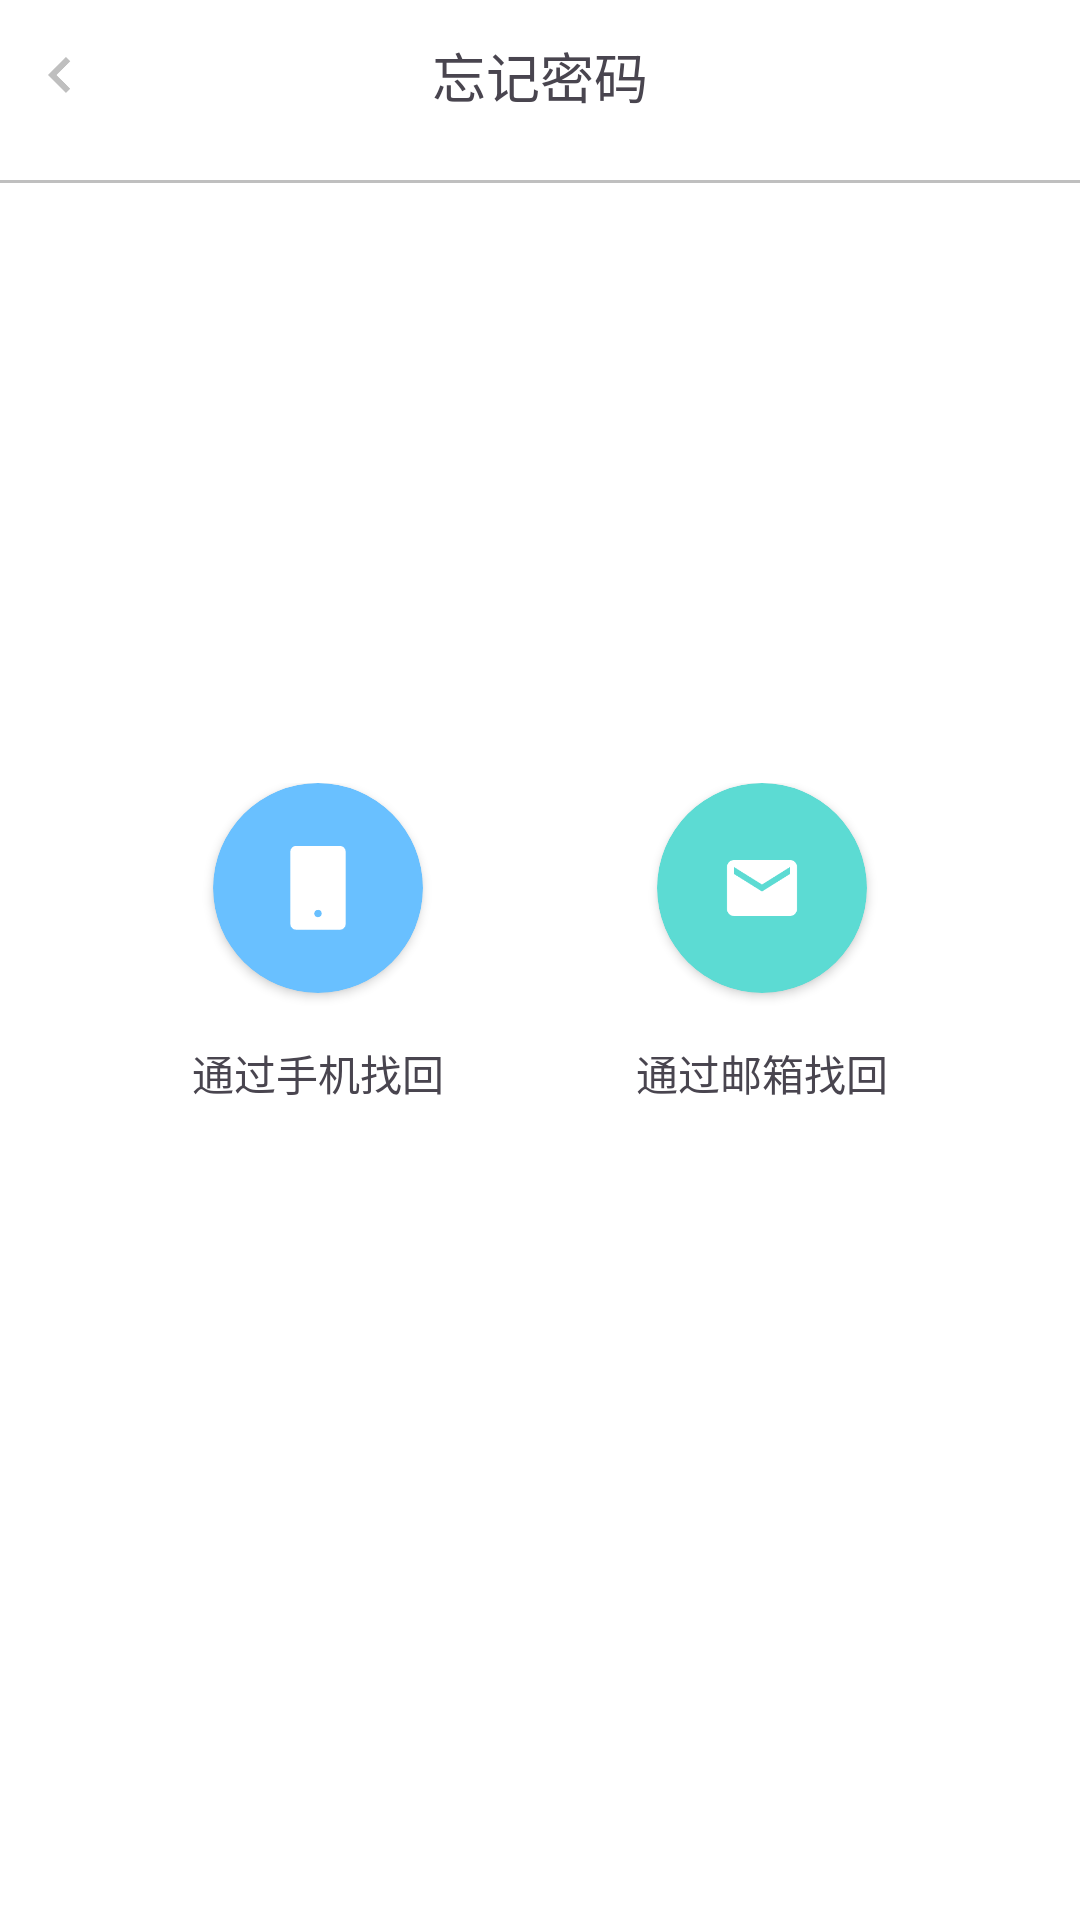

Screen size 1080x1920. Icon name, then its box in pixels as [x1=x1, y1=y1, x2=x2, y2=y2]:
forgot password mail: [x1=727, y1=860, x2=797, y2=916]
forgot password phone: [x1=290, y1=846, x2=346, y2=930]
left arrow: [x1=48, y1=57, x2=70, y2=93]
